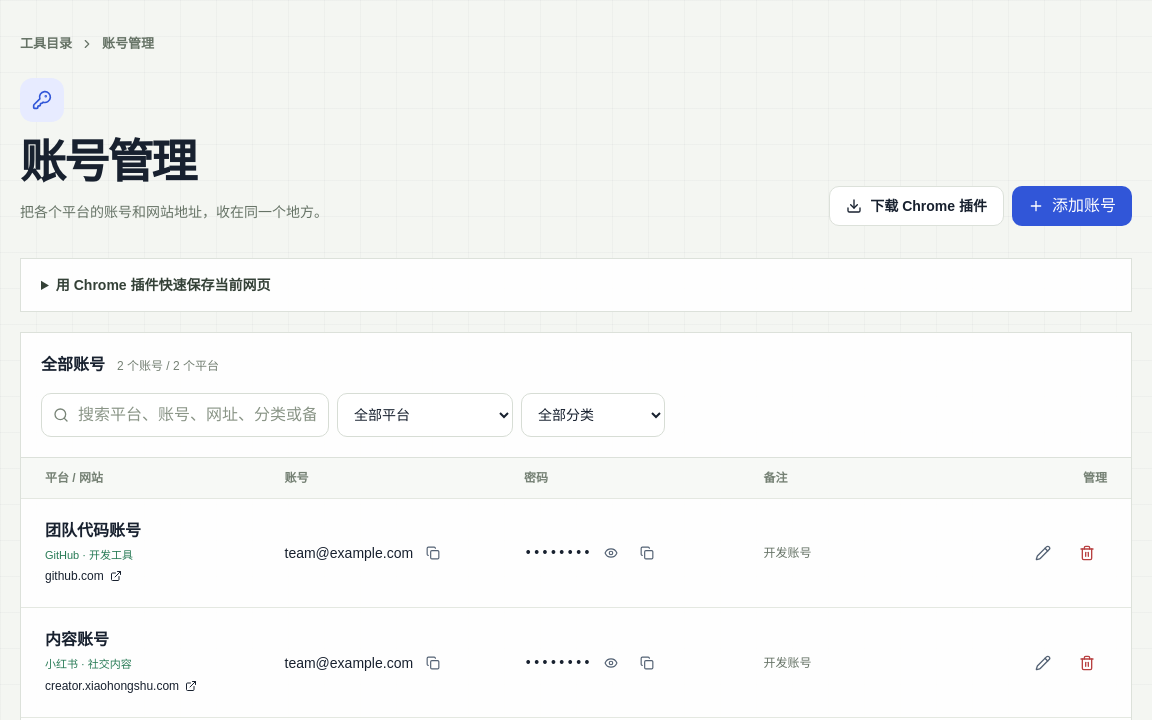
Test case: account manager interactions › recognizes an existing URL without rewriting its saved name and filters by purpose
Expected: the text "GitHub · 开发工具" is shown, x1=45 y1=549 x2=133 y2=561
Expected: the heading "团队代码账号" is shown, x1=45 y1=522 x2=141 y2=539
Select "开发工具" in the dropdown named "按用途分类筛选" at (593, 415), box x1=521 y1=393 x2=665 y2=437
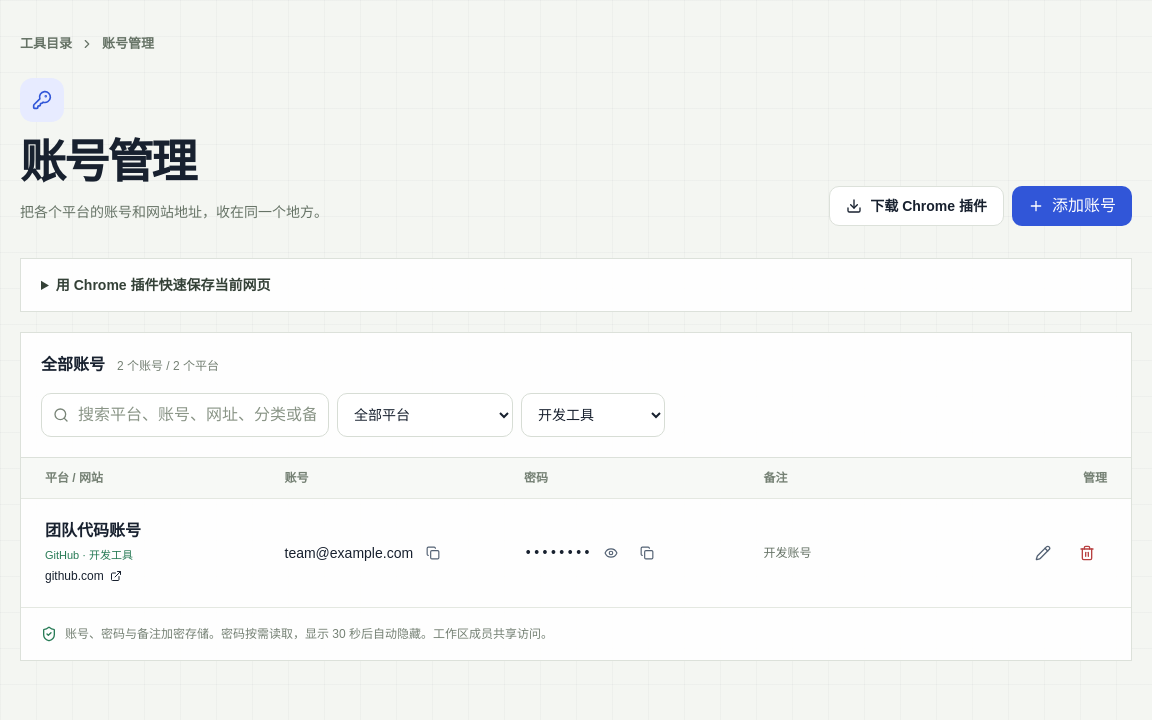
Expected: the heading "内容账号" is gone
Type "社交内容" into the field named "搜索账号" at (185, 415), box x1=41 y1=393 x2=329 y2=437
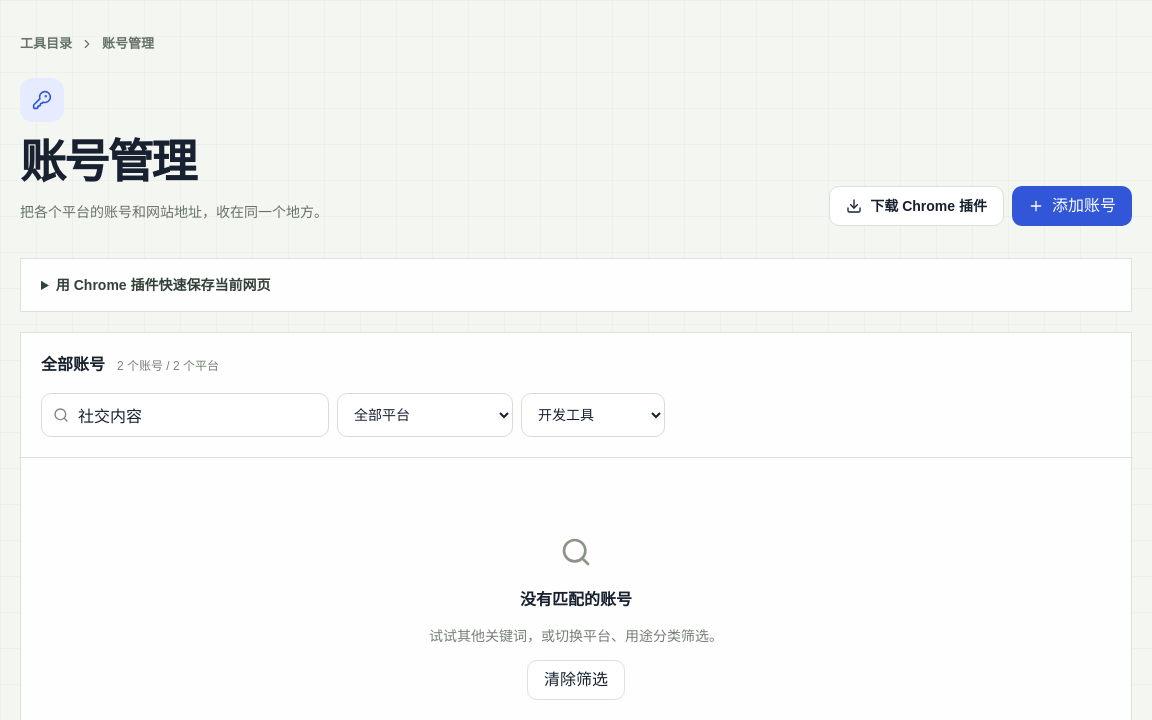
Expected: the heading "没有匹配的账号" is shown, x1=520 y1=588 x2=632 y2=612
Click the button "清除筛选" at (576, 680), box x1=527 y1=660 x2=625 y2=700
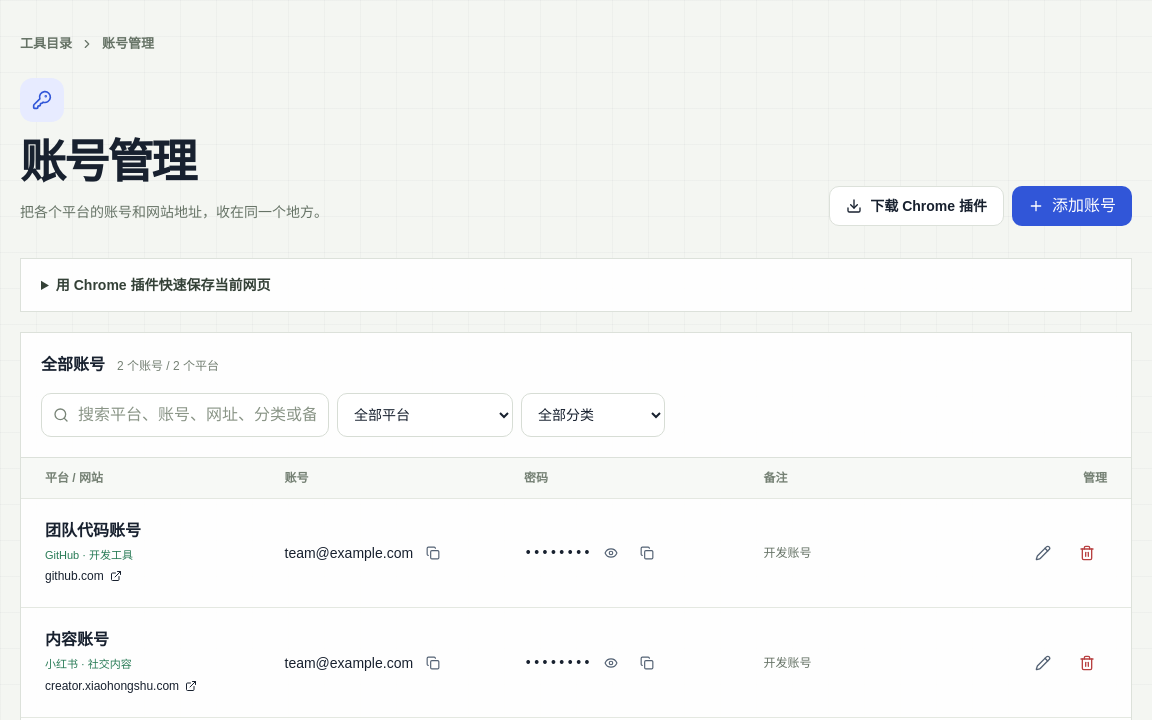
Expected: the heading "内容账号" is shown, x1=45 y1=631 x2=109 y2=648
